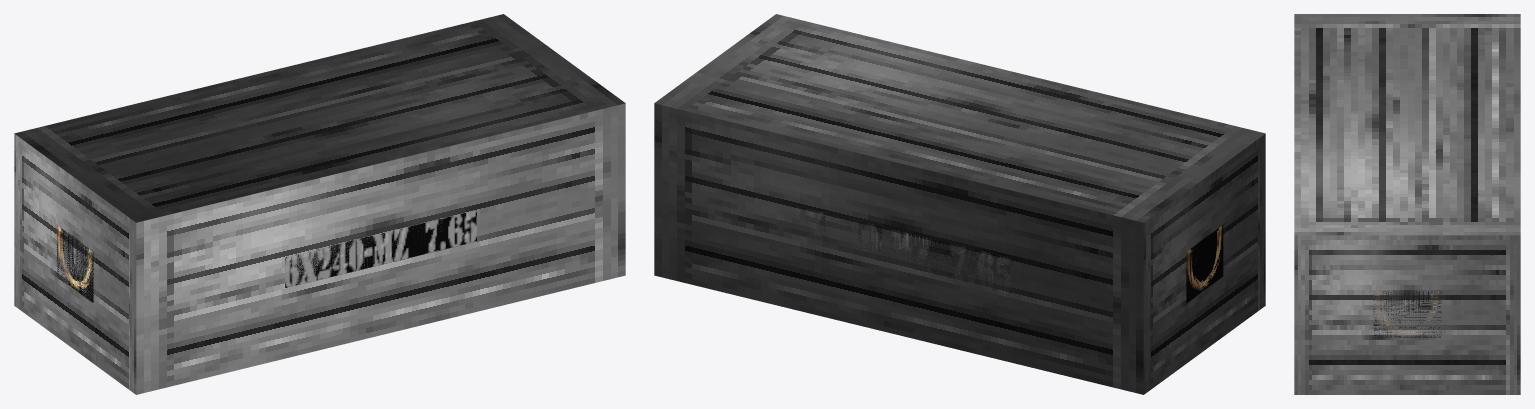
Rendered from Pammo_crate1Z.obj.
The picture shows the model from 3 angles, left to right: view 1: azimuth 30°, elevation 25°; view 2: azimuth 150°, elevation 25°; view 3: azimuth 270°, elevation 25°; orthographic projection. The views are drawn at different scales.
Bounding box in the file's own units: 1214 × 408 × 524.
Materials: 3 (3 with a texture image).
